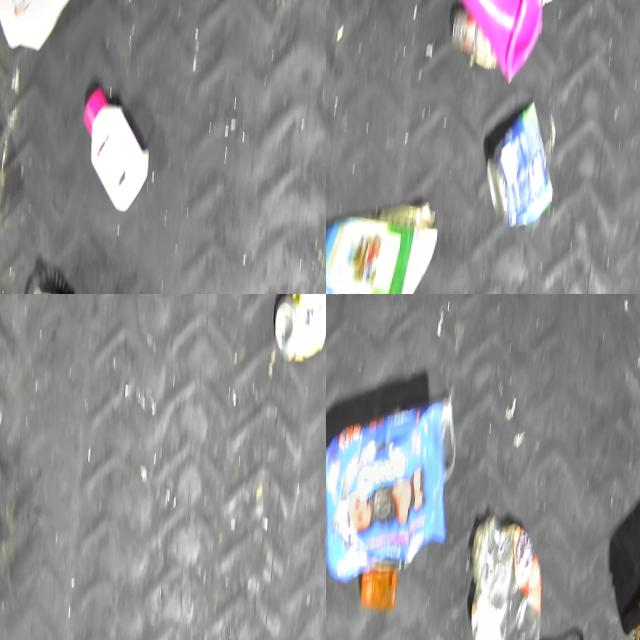can: (478, 92, 562, 234), (270, 294, 326, 363)
milk_jug: (0, 0, 100, 54)
non_white_jug: (434, 0, 566, 82)
plastic_bottle: (459, 507, 553, 640)
